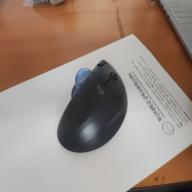mouse: (57, 58, 129, 154)
